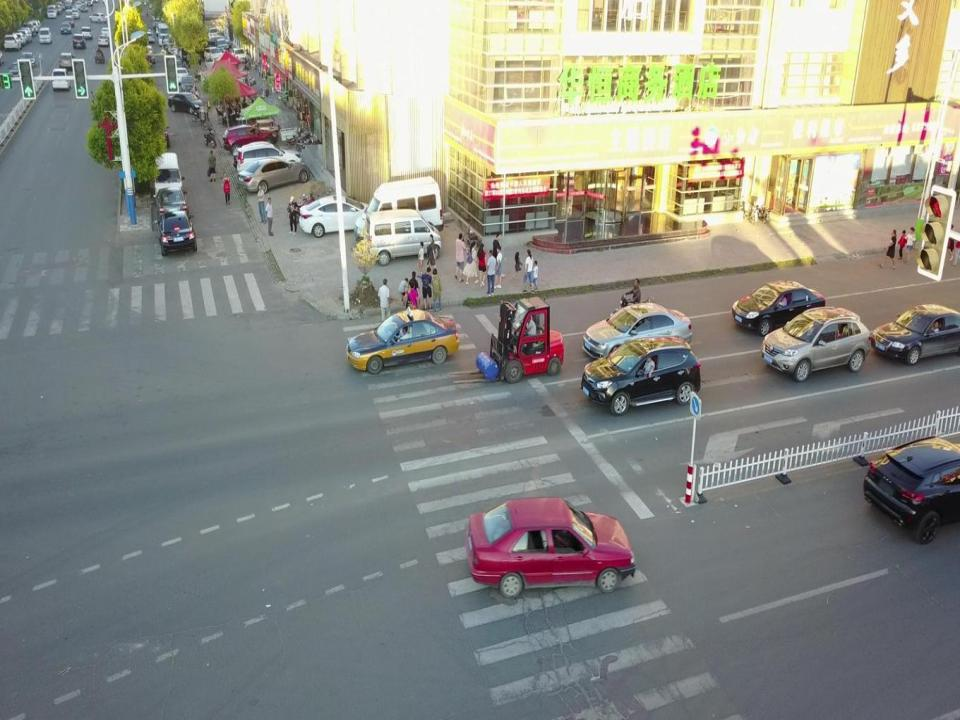car: (463, 495, 639, 600), (864, 435, 960, 546), (582, 335, 703, 415), (760, 304, 872, 383), (345, 308, 462, 371), (582, 300, 695, 360), (868, 305, 959, 369), (730, 280, 826, 335), (298, 193, 370, 238), (237, 156, 311, 194), (234, 140, 301, 173), (222, 124, 280, 153), (158, 213, 197, 255), (152, 150, 182, 197), (154, 185, 189, 220), (167, 92, 203, 113), (50, 67, 70, 88), (204, 46, 224, 63), (20, 50, 36, 68), (3, 33, 21, 49), (180, 76, 196, 93), (210, 35, 228, 50), (174, 65, 188, 84), (59, 51, 74, 68), (38, 27, 52, 45), (73, 34, 87, 51), (232, 47, 247, 62), (9, 60, 22, 77), (15, 29, 27, 47), (19, 28, 33, 42), (24, 20, 36, 36), (59, 21, 73, 34), (171, 52, 183, 67), (158, 22, 170, 36), (80, 26, 92, 40), (142, 31, 155, 43), (97, 33, 109, 46), (165, 42, 177, 54), (159, 33, 169, 46), (208, 27, 220, 36), (101, 26, 110, 38)
van: (355, 171, 445, 237), (365, 210, 441, 263)
